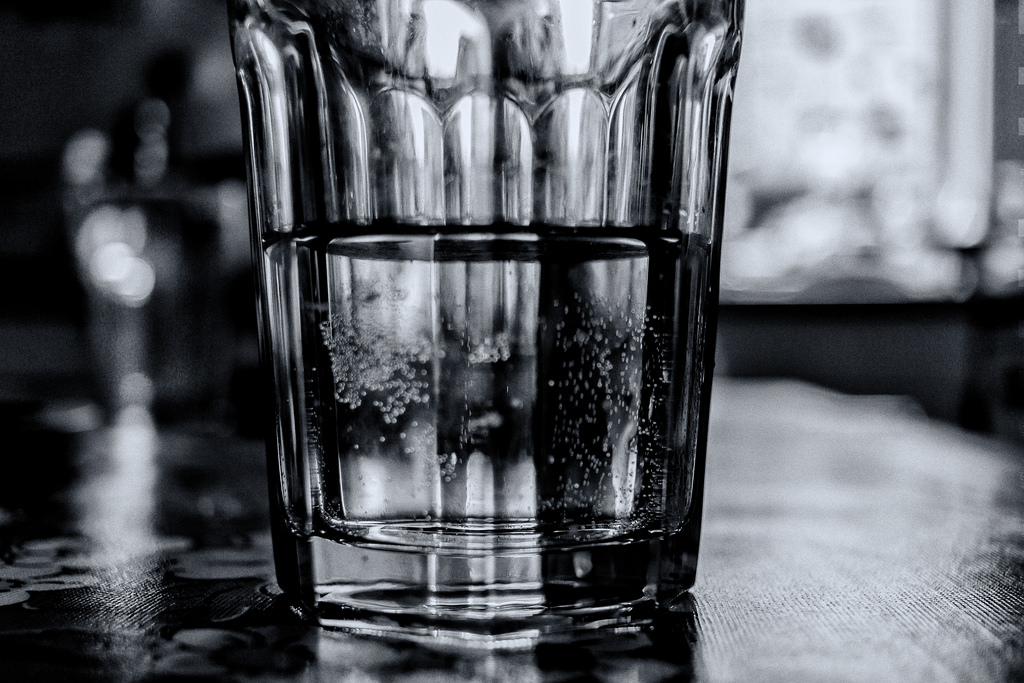glass of water: (365, 274, 691, 589)
